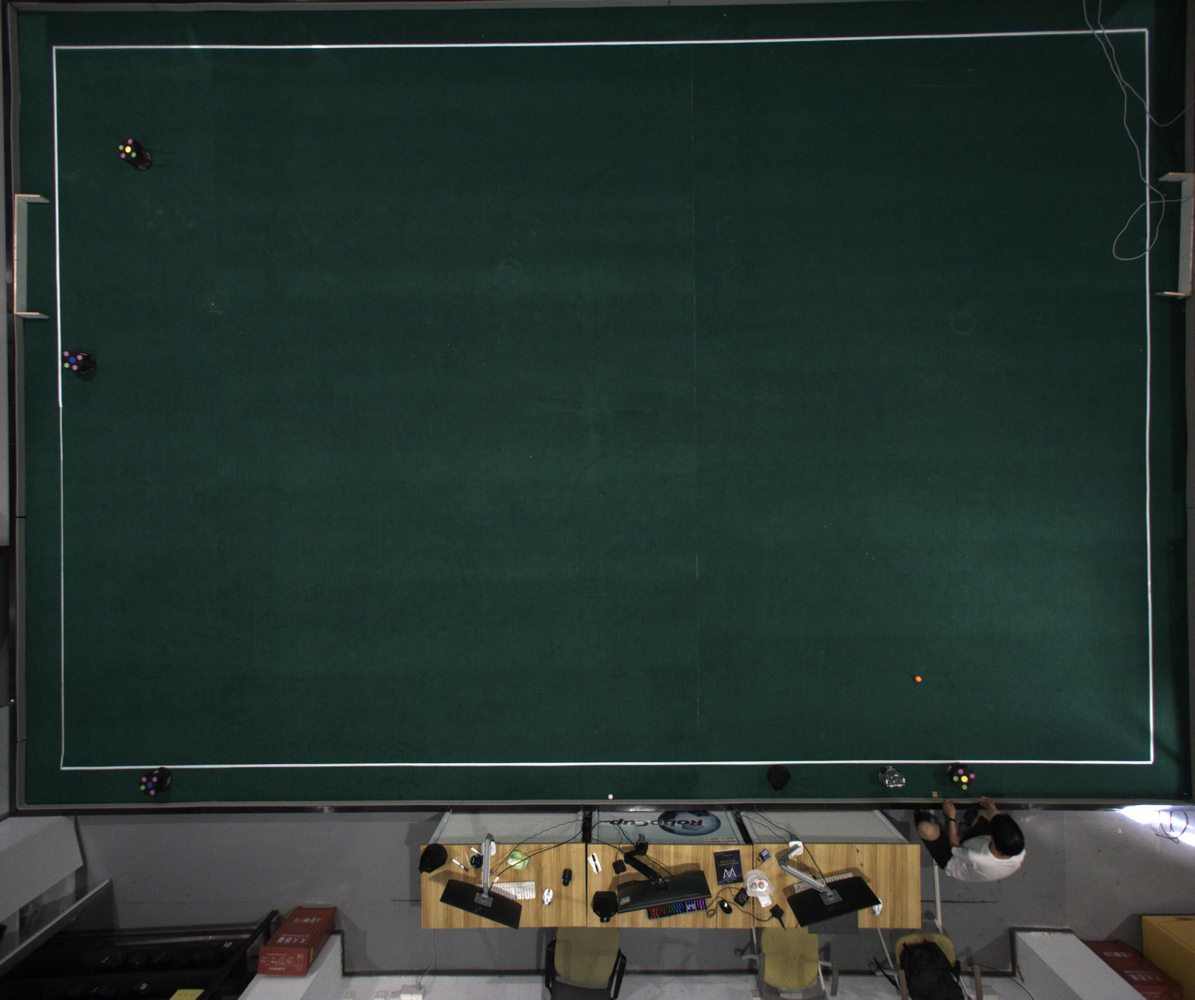ball: (915, 676, 922, 683)
blue_bot: (62, 350, 85, 372), (140, 775, 159, 796)
yellow_bot: (953, 767, 976, 791), (118, 139, 138, 160)
